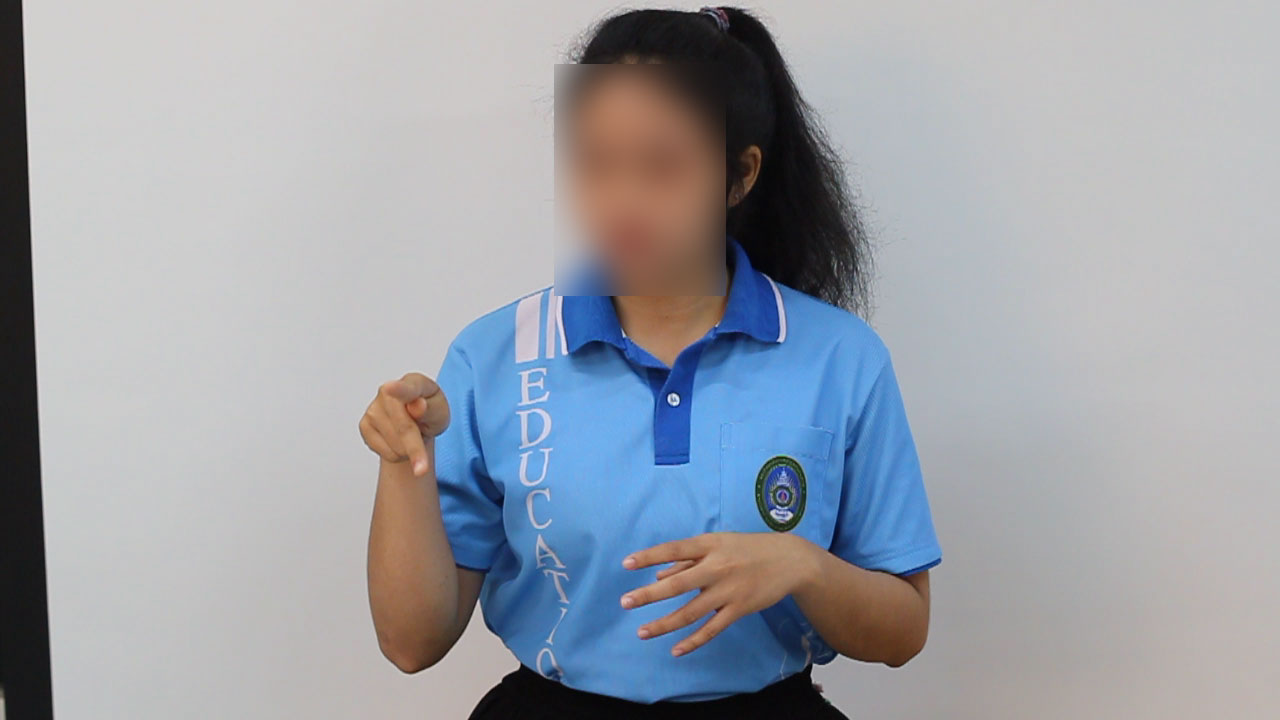por: (351, 360, 460, 490)
